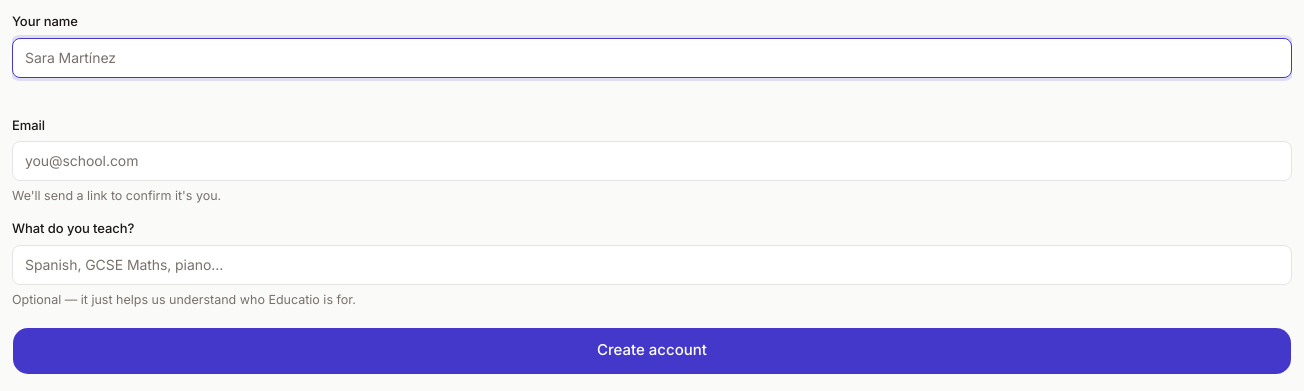
Test: what leaving a field says about it › reports every empty required field once the form is submitted
Click the button "Create account": (652, 350) [12,326,1292,374]
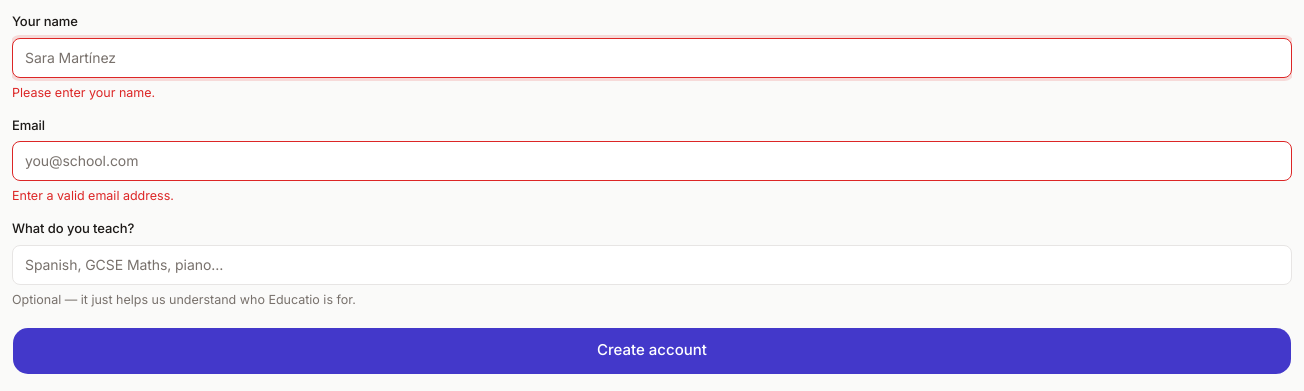
Expected: the text "Please enter your name." is shown, [12,84,155,100]
